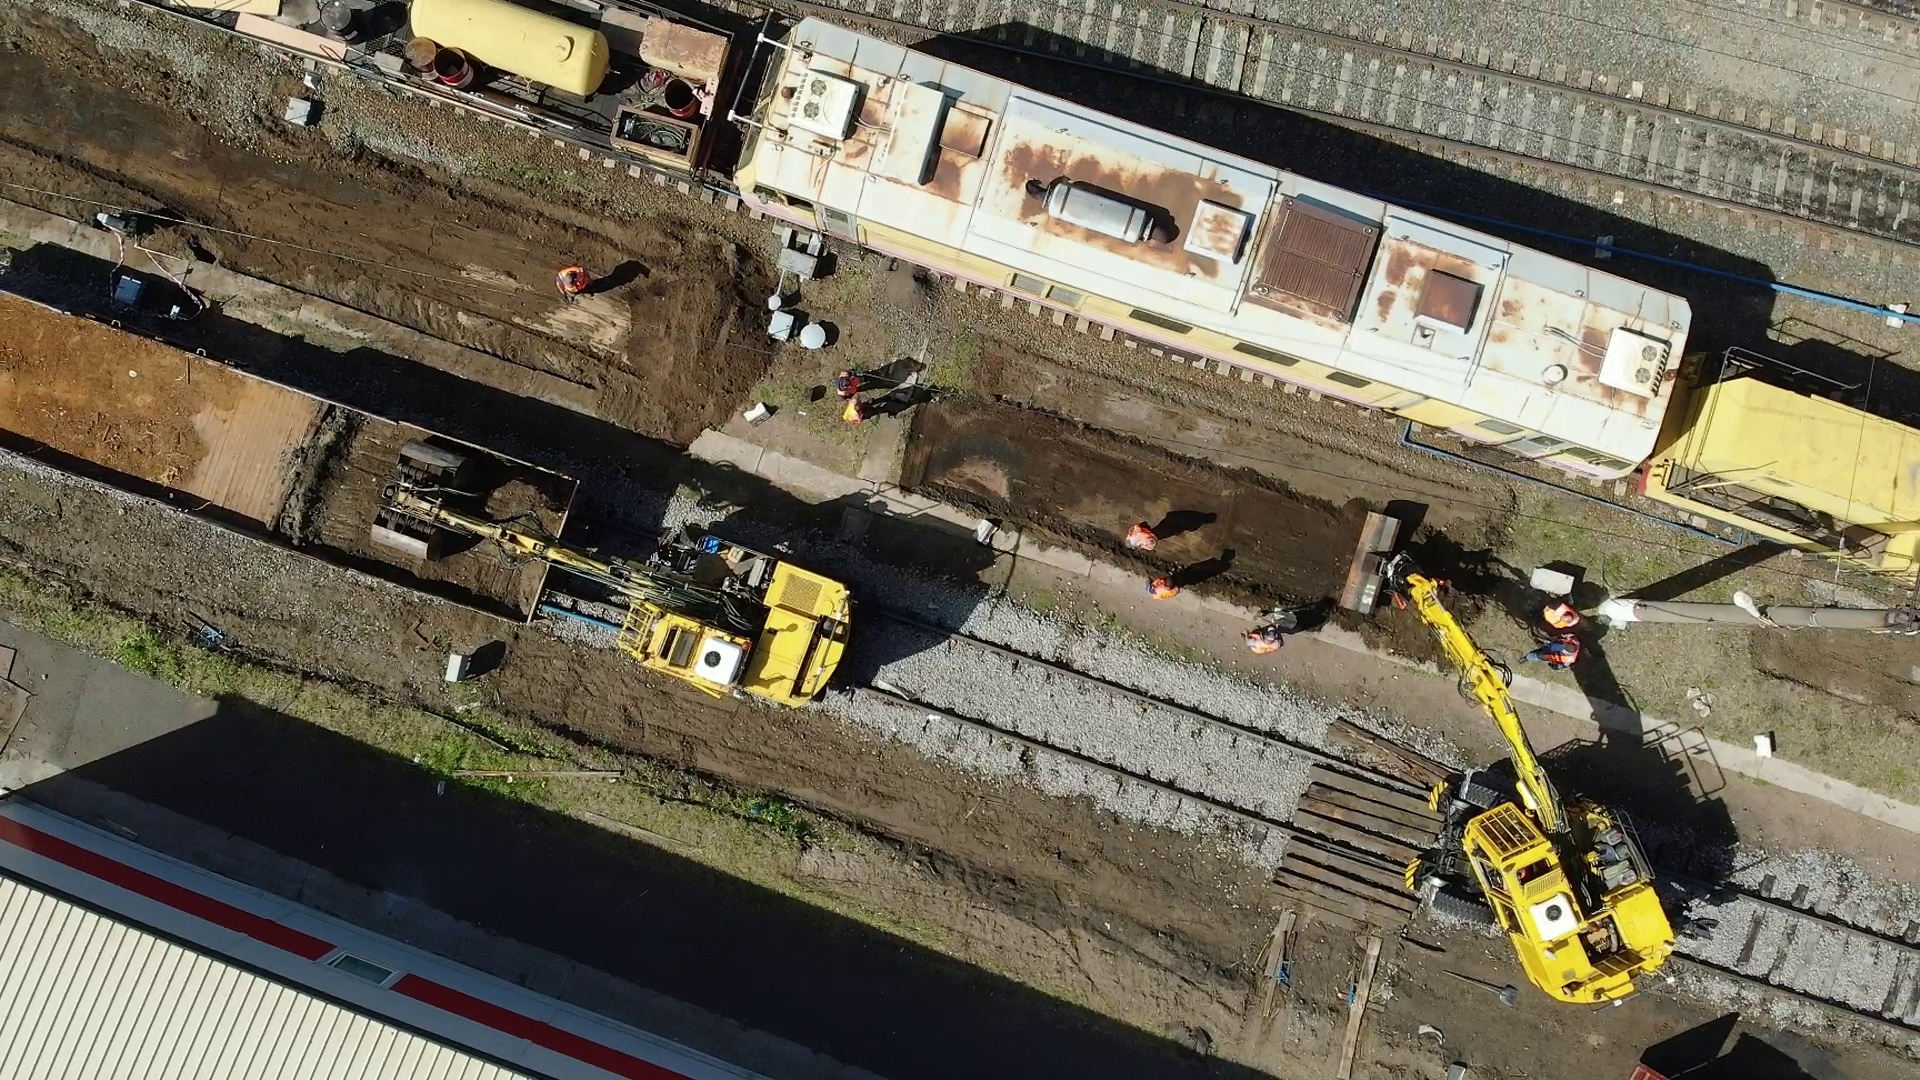kjtv: (1409, 753, 1667, 999), (590, 517, 856, 703)
